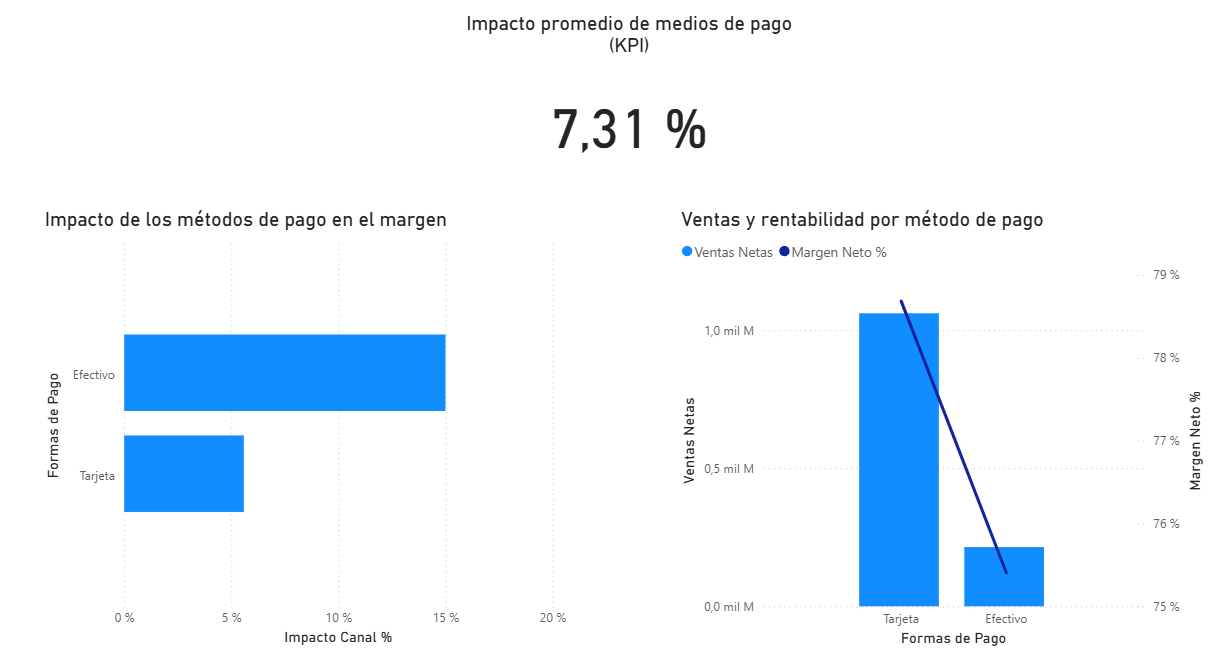

The page's visual inventory and layout, read from the dashboard file:
{"tool":"powerbi","page":{"name":"Payment & Operations Impact","canvas":[1280,720],"ordinal":2},"visuals":[{"type":"barChart","title":"Impacto de los métodos de pago en el margen","fields":{"Category":["Metodos de Pago.Formas de Pago"],"Y":["Medidas.Impacto Canal %"]},"box":[62.4,222.6,520.9,432.9],"z":0},{"type":"lineClusteredColumnComboChart","title":"Ventas y rentabilidad por método de pago","fields":{"Category":["Metodos de Pago.Formas de Pago"],"Y":["Medidas.Ventas Netas"],"Y2":["Medidas.Margen Neto %"]},"box":[684.8,222.6,520.9,432.9],"z":1000},{"type":"card","title":"Impacto promedio de medios de pago","fields":{"Values":["Medidas.Impacto Canal %"]},"box":[474.5,30.6,330.2,170],"z":2000}]}

Visuals, with their boxes on the page's 1280x720 design canvas (x1, y1, x2, y2). These are canvas units, not pixel positions in the 1222x661 screenshot, which may show the page scaled, cropped or inside an application window:
"Impacto de los métodos de pago en el margen" barChart: bbox=(62, 223, 583, 656)
"Ventas y rentabilidad por método de pago" lineClusteredColumnComboChart: bbox=(685, 223, 1206, 656)
"Impacto promedio de medios de pago" card: bbox=(474, 31, 805, 201)
